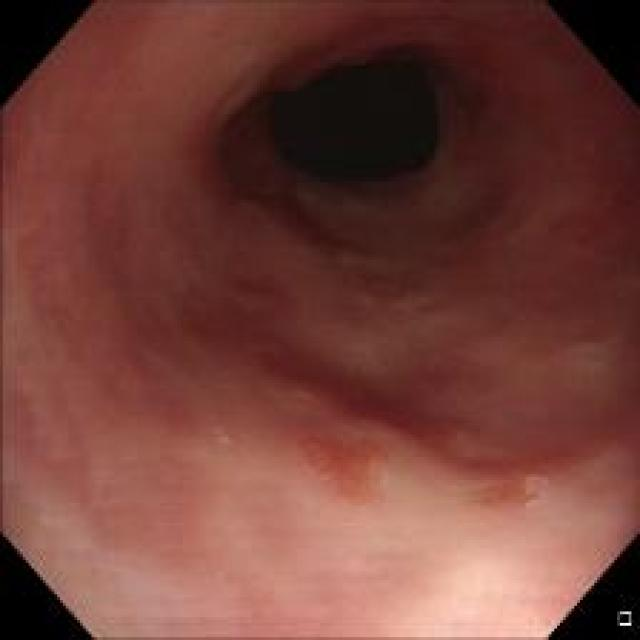contrast: (241, 30, 446, 221)
